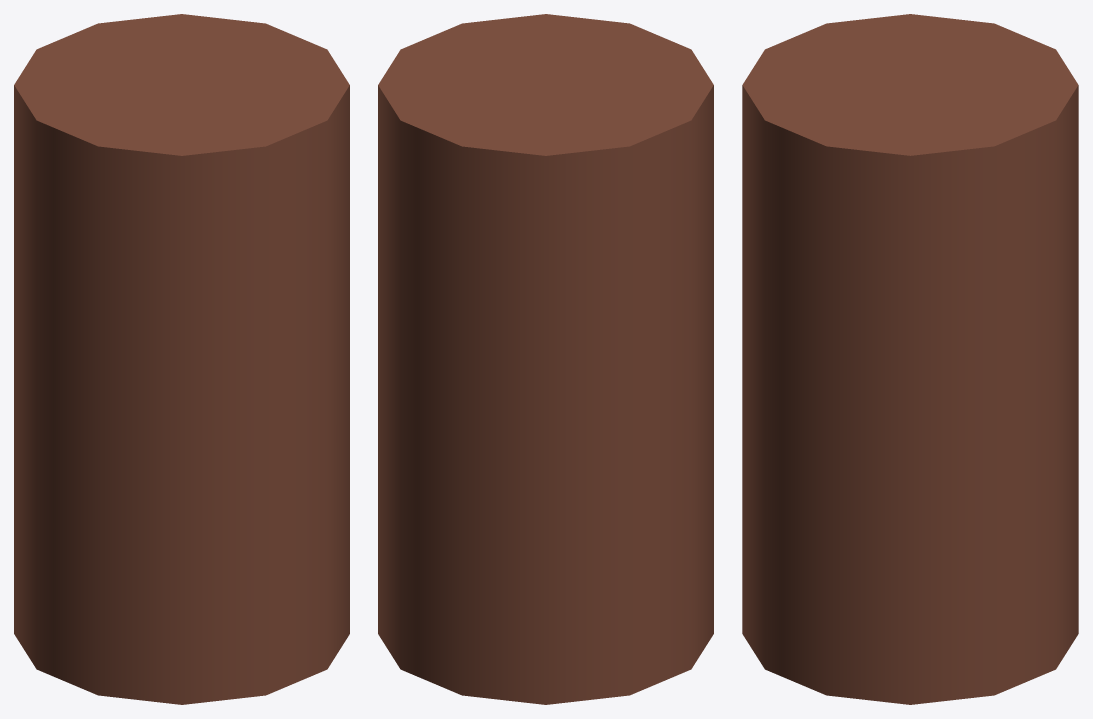
The model's file is cocoaFXMesh.fbx.
The picture shows the model from 3 angles, left to right: view 1: azimuth 30°, elevation 25°; view 2: azimuth 150°, elevation 25°; view 3: azimuth 270°, elevation 25°; orthographic projection.
Parts seen in each view (by area): view 1: cocoaFX; view 2: cocoaFX; view 3: cocoaFX.
Part boxes in pixels (left/top/right/bottom): cocoaFX: left=14, top=14, right=349, bottom=704; cocoaFX: left=378, top=14, right=713, bottom=704; cocoaFX: left=742, top=14, right=1078, bottom=704.
Size of the model in its own units: 15.12 by 27.28 by 15.13.
